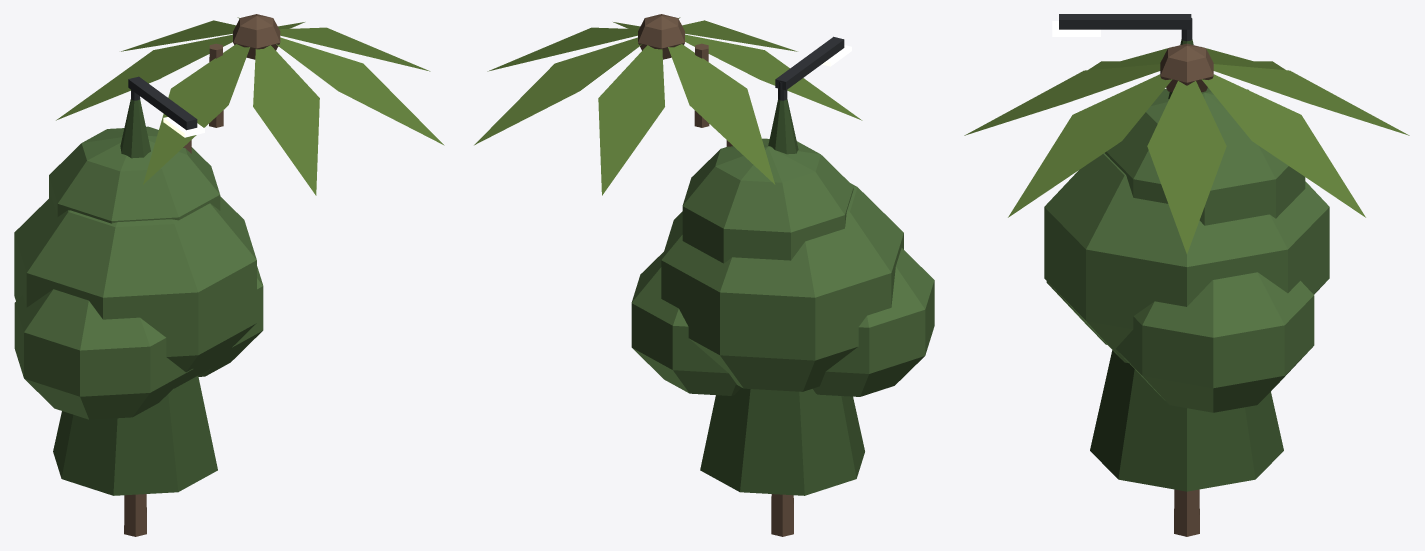
The model's file is props.glb.
3 renders of one model, left to right at view 1: azimuth 30°, elevation 25°; view 2: azimuth 150°, elevation 25°; view 3: azimuth 270°, elevation 25°, orthographic. The views are drawn at different scales.
Visible parts, largest first — view 1: tree-round-leaf, tree-palm-frond, tree-cone-leaf-dark, tree-palm-bark, lamp-charcoal; view 2: tree-round-leaf, tree-palm-frond, tree-cone-leaf-dark, tree-palm-bark, lamp-charcoal; view 3: tree-round-leaf, tree-palm-frond, tree-cone-leaf-dark, tree-palm-bark, lamp-charcoal.
Boxes of the visible parts, x1=… form: tree-round-leaf: x1=14, y1=126, x2=263, y2=419; tree-palm-frond: x1=56, y1=17, x2=444, y2=195; tree-cone-leaf-dark: x1=53, y1=99, x2=217, y2=495; tree-palm-bark: x1=124, y1=14, x2=280, y2=536; lamp-charcoal: x1=128, y1=76, x2=197, y2=130; tree-round-leaf: x1=631, y1=138, x2=934, y2=396; tree-palm-frond: x1=474, y1=17, x2=862, y2=195; tree-cone-leaf-dark: x1=700, y1=98, x2=864, y2=495; tree-palm-bark: x1=638, y1=14, x2=793, y2=536; lamp-charcoal: x1=775, y1=36, x2=844, y2=100; tree-round-leaf: x1=1044, y1=88, x2=1329, y2=412; tree-palm-frond: x1=964, y1=48, x2=1409, y2=253; tree-cone-leaf-dark: x1=1090, y1=39, x2=1283, y2=491; tree-palm-bark: x1=1160, y1=43, x2=1213, y2=536; lamp-charcoal: x1=1059, y1=14, x2=1192, y2=41.
Size of the model in its own units: 6.29 by 6.9 by 5.07.
